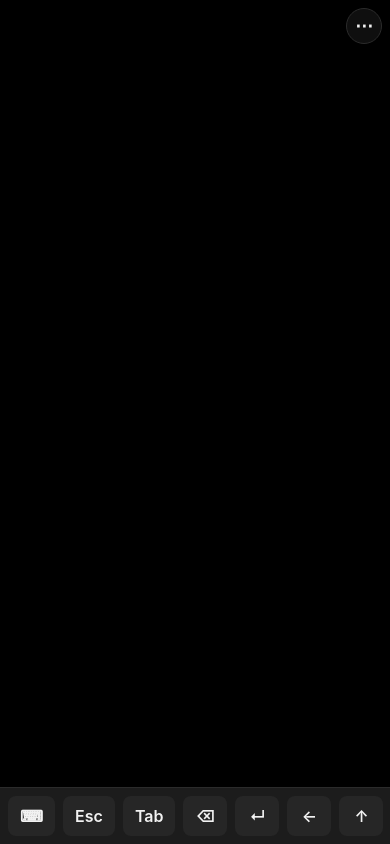
RemoteScreen › the overlay header › marks the resolution as compat while on the tile fallback
The width and height of the screenshot is (390, 844).
Click the text "⋯".
click(364, 26)  # box [355,16,373,36]
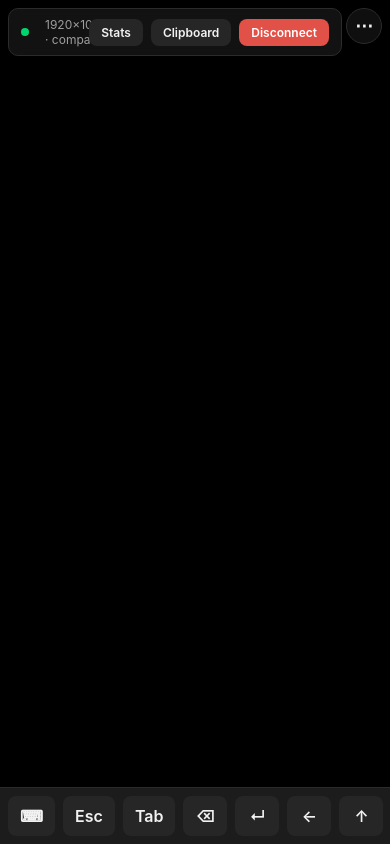
expect the text "1920×1080 · compat" is shown: met, box [45,17,108,47]
